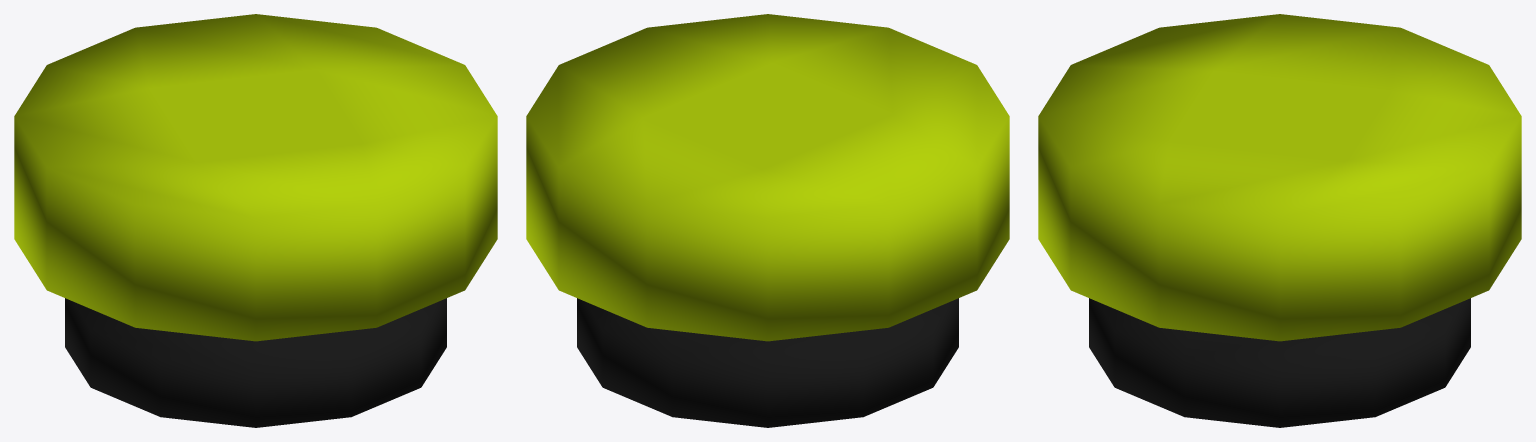
The model's file is model_spring.obj.
3 renders of one model, left to right at view 1: azimuth 30°, elevation 25°; view 2: azimuth 150°, elevation 25°; view 3: azimuth 270°, elevation 25°, orthographic.
Parts seen in each view (by area): view 1: Springyellow; view 2: Springyellow; view 3: Springyellow.
Part boxes in pixels (x1,y1,x2,y2): Springyellow: (14, 14, 497, 427); Springyellow: (526, 14, 1009, 427); Springyellow: (1038, 14, 1521, 427).
Size of the model in its own units: 2.91 by 1.54 by 2.91.
